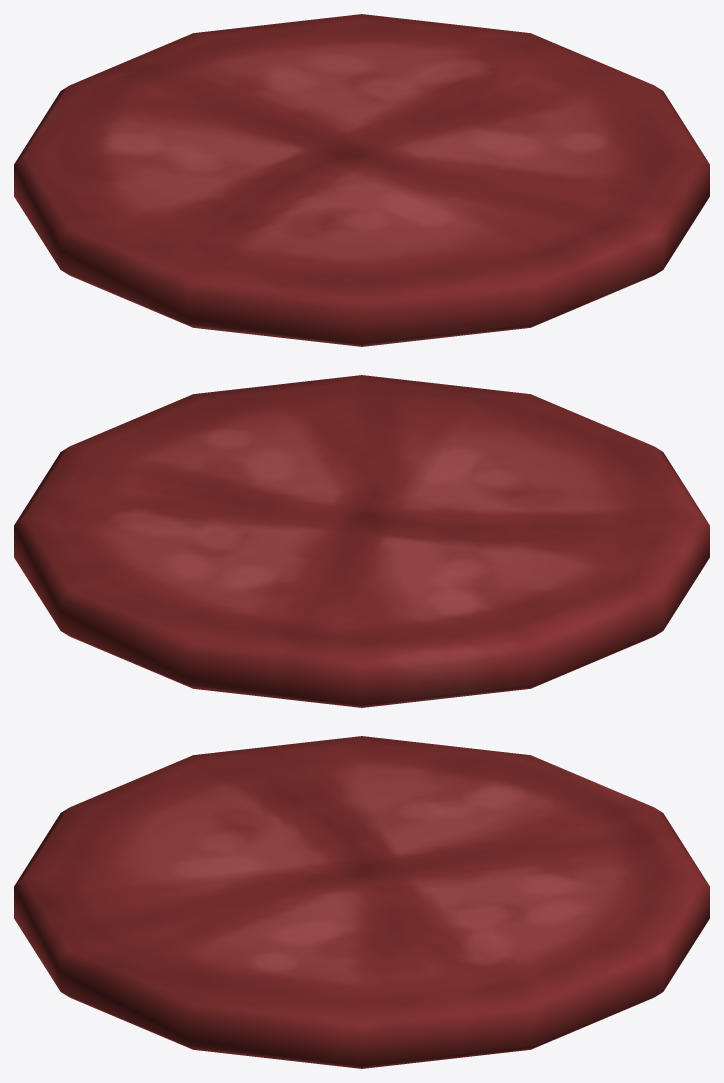
The model's file is Msh_Tomate_Cortado.fbx.
3 renders of one model, top to bottom at view 1: azimuth 30°, elevation 25°; view 2: azimuth 150°, elevation 25°; view 3: azimuth 270°, elevation 25°, orthographic.
Visible parts, largest first — view 1: Msh_Tomate_Cortado; view 2: Msh_Tomate_Cortado; view 3: Msh_Tomate_Cortado.
Boxes of the visible parts, x1,y1,x2,y2 form: Msh_Tomate_Cortado: (14, 14, 709, 346); Msh_Tomate_Cortado: (14, 375, 709, 707); Msh_Tomate_Cortado: (14, 736, 709, 1068).
Bounding box in the file's own units: 12.43 × 12.43 × 1.07.
Materials: 1 (1 with a texture image).
